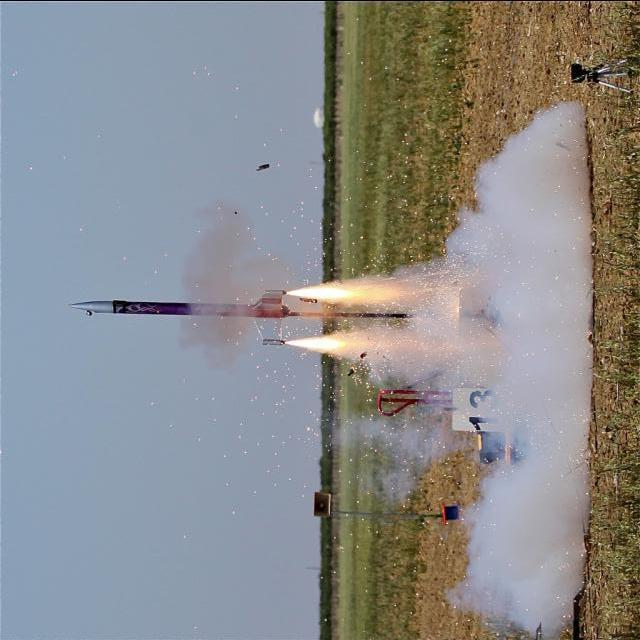missile: (67, 284, 316, 332)
